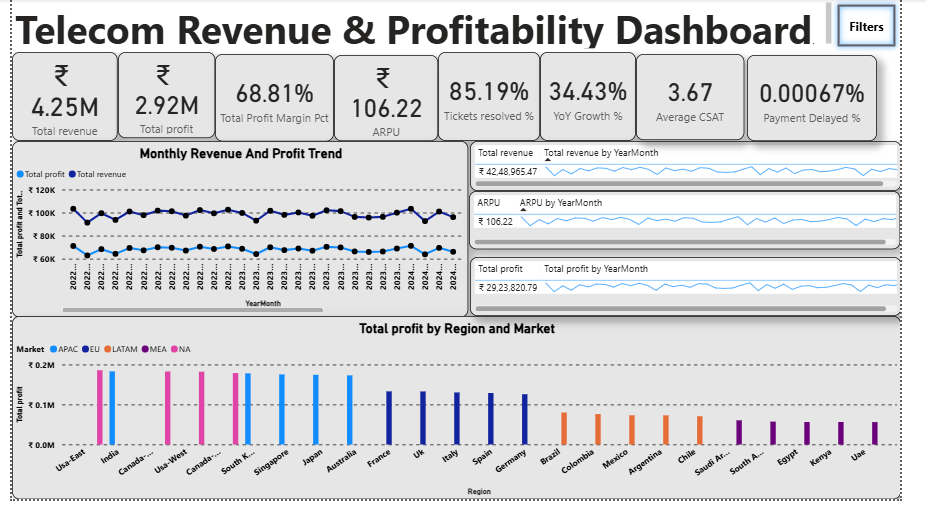

This screenshot's page, from the dashboard's own definition file:
{"tool":"powerbi","page":{"name":"Main DashBoard","canvas":[1280,720],"ordinal":2},"visuals":[{"type":"card","fields":{"Values":["Measure.Total revenue"]},"box":[0,76.9,152.1,127.7],"z":0},{"type":"card","fields":{"Values":["Measure.Total profit"]},"box":[152.1,76.9,139.9,124.2],"z":1000},{"type":"card","fields":{"Values":["Measure.Total Profit Margin Pct"]},"box":[292,78.7,171.4,125.9],"z":2000},{"type":"card","fields":{"Values":["Measure.ARPU"]},"box":[463.4,80.4,150.4,124.2],"z":3000},{"type":"card","fields":{"Values":["Measure.Tickets resolved %"]},"box":[613.8,76.9,146.9,127.7],"z":4000},{"type":"card","fields":{"Values":["Measure.YoY Growth %"]},"box":[760.7,76.9,138.1,127.7],"z":5000},{"type":"lineChart","title":"Monthly Revenue And Profit Trend","fields":{"Y":["Measure.Total profit","Measure.Total revenue"],"Category":["Calendar.YearMonth"]},"box":[0,204.6,657.5,253.6],"z":6000},{"type":"clusteredColumnChart","fields":{"Category":["Telecom_RegionalPeople.Region"],"Y":["Measure.Total profit"],"Series":["Telecom_Customers.Market"]},"box":[0,456.4,1280,264],"z":7000},{"type":"textbox","box":[0,0,1185.1,76.3],"z":8000},{"type":"actionButton","box":[1180.8,0,99.4,76.3],"z":9000},{"type":"tableEx","fields":{"Values":["Measure.Total revenue","SparklineData(Measure.Total revenue_[Calendar.YearMonth])"]},"box":[659.2,204.6,620.8,71.7],"z":19000},{"type":"tableEx","fields":{"Values":["Measure.ARPU","SparklineData(Measure.ARPU_[Calendar.YearMonth])"]},"box":[657.5,276.3,620.8,83.9],"z":20000},{"type":"tableEx","fields":{"Values":["Measure.Total profit","SparklineData(Measure.Total profit_[Calendar.YearMonth])"]},"box":[659.5,371.5,620.6,85],"z":21000},{"type":"card","fields":{"Values":["Measure.Average CSAT"]},"box":[898.8,78.7,155.6,124.2],"z":22000},{"type":"card","fields":{"Values":["Measure.Payment Delayed %"]},"box":[1057.9,80.4,187.1,124.2],"z":23000}]}

Visuals, with their boxes in screenshot pixels (x1, y1, x2, y2), scaled from the page's 1280x720 canvas onto the 926x506 screenshot:
card - Measure.Total revenue: 0/54/110/144
card - Measure.Total profit: 110/54/211/141
card - Measure.Total Profit Margin Pct: 211/55/335/144
card - Measure.ARPU: 335/57/444/144
card - Measure.Tickets resolved %: 444/54/550/144
card - Measure.YoY Growth %: 550/54/650/144
"Monthly Revenue And Profit Trend" lineChart: 0/144/476/322
clusteredColumnChart - Telecom_RegionalPeople.Region x Measure.Total profit: 0/321/925/505
textbox: 0/0/857/54
actionButton: 854/0/925/54
tableEx - Measure.Total revenue x SparklineData(Measure.Total revenue_[Calendar.YearMonth]): 477/144/925/194
tableEx - Measure.ARPU x SparklineData(Measure.ARPU_[Calendar.YearMonth]): 476/194/925/253
tableEx - Measure.Total profit x SparklineData(Measure.Total profit_[Calendar.YearMonth]): 477/261/925/321
card - Measure.Average CSAT: 650/55/763/143
card - Measure.Payment Delayed %: 765/57/901/144
